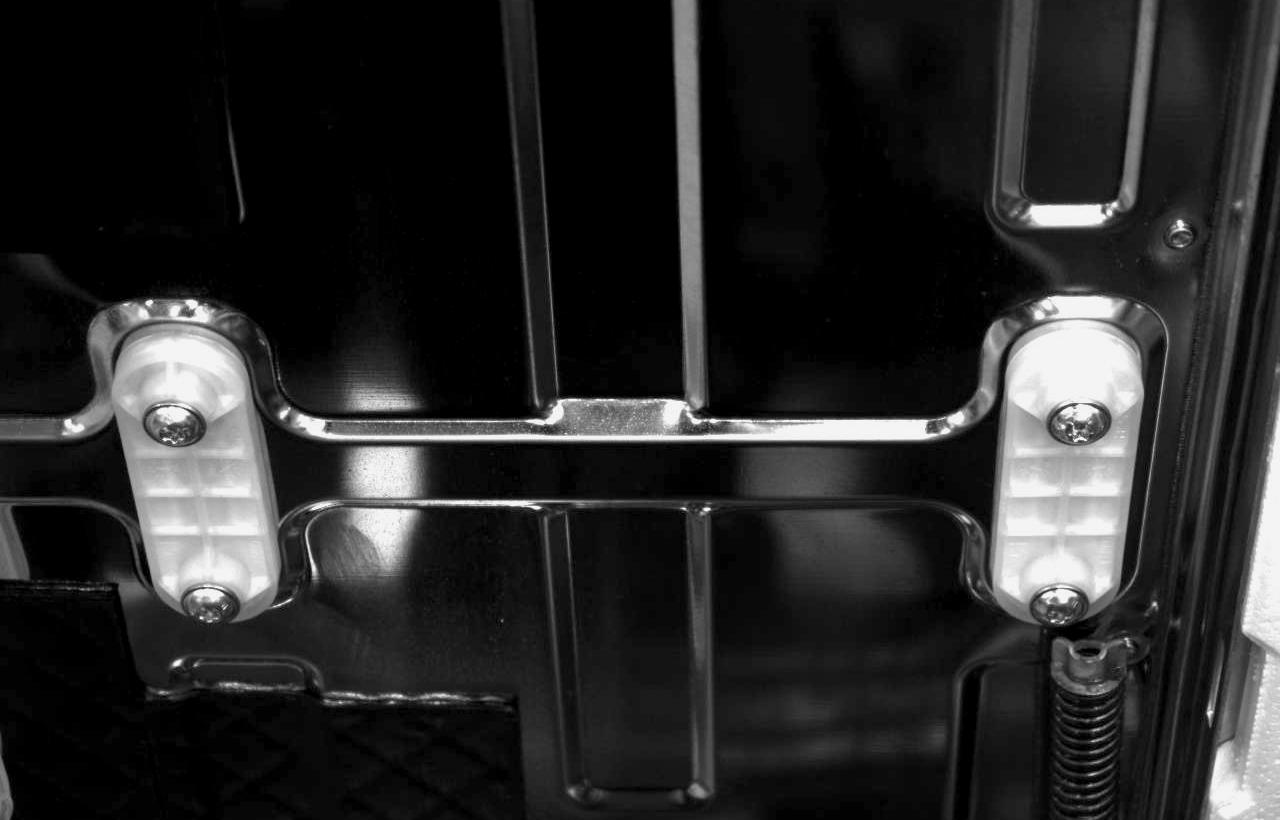vida-ok: (136, 392, 207, 459), (1046, 391, 1113, 458), (179, 569, 244, 628), (1029, 575, 1094, 634)
